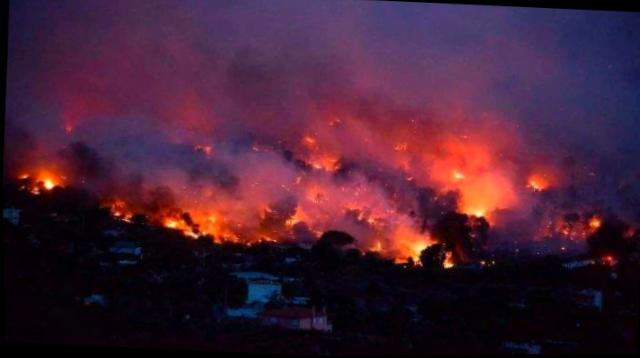fire: (11, 86, 603, 278)
